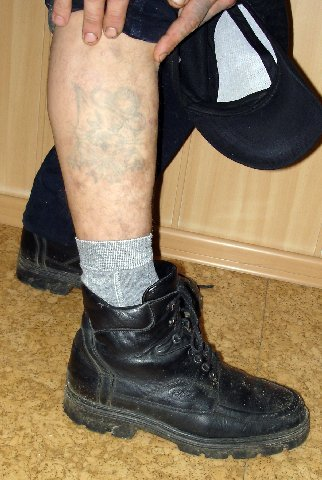tatu8_kot: (63, 76, 151, 180)
